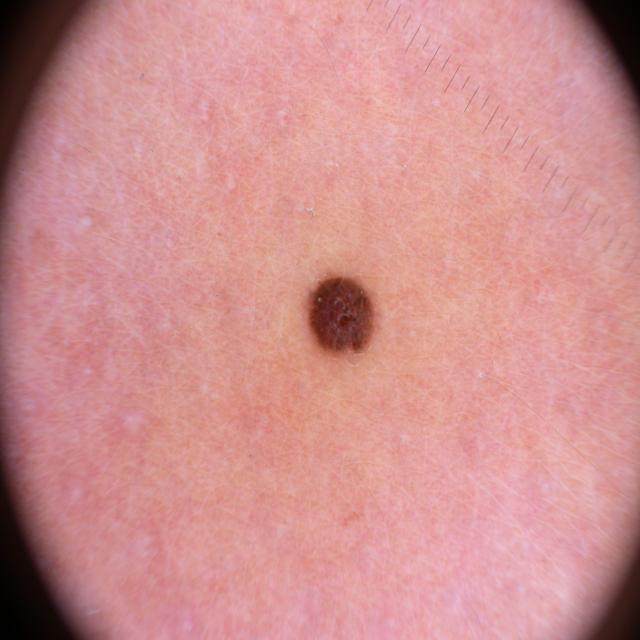Benign: (300, 254, 383, 376)
